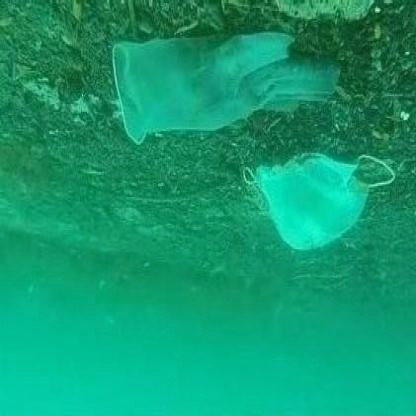Mask: (238, 154, 399, 256)
glove: (113, 32, 343, 136)
